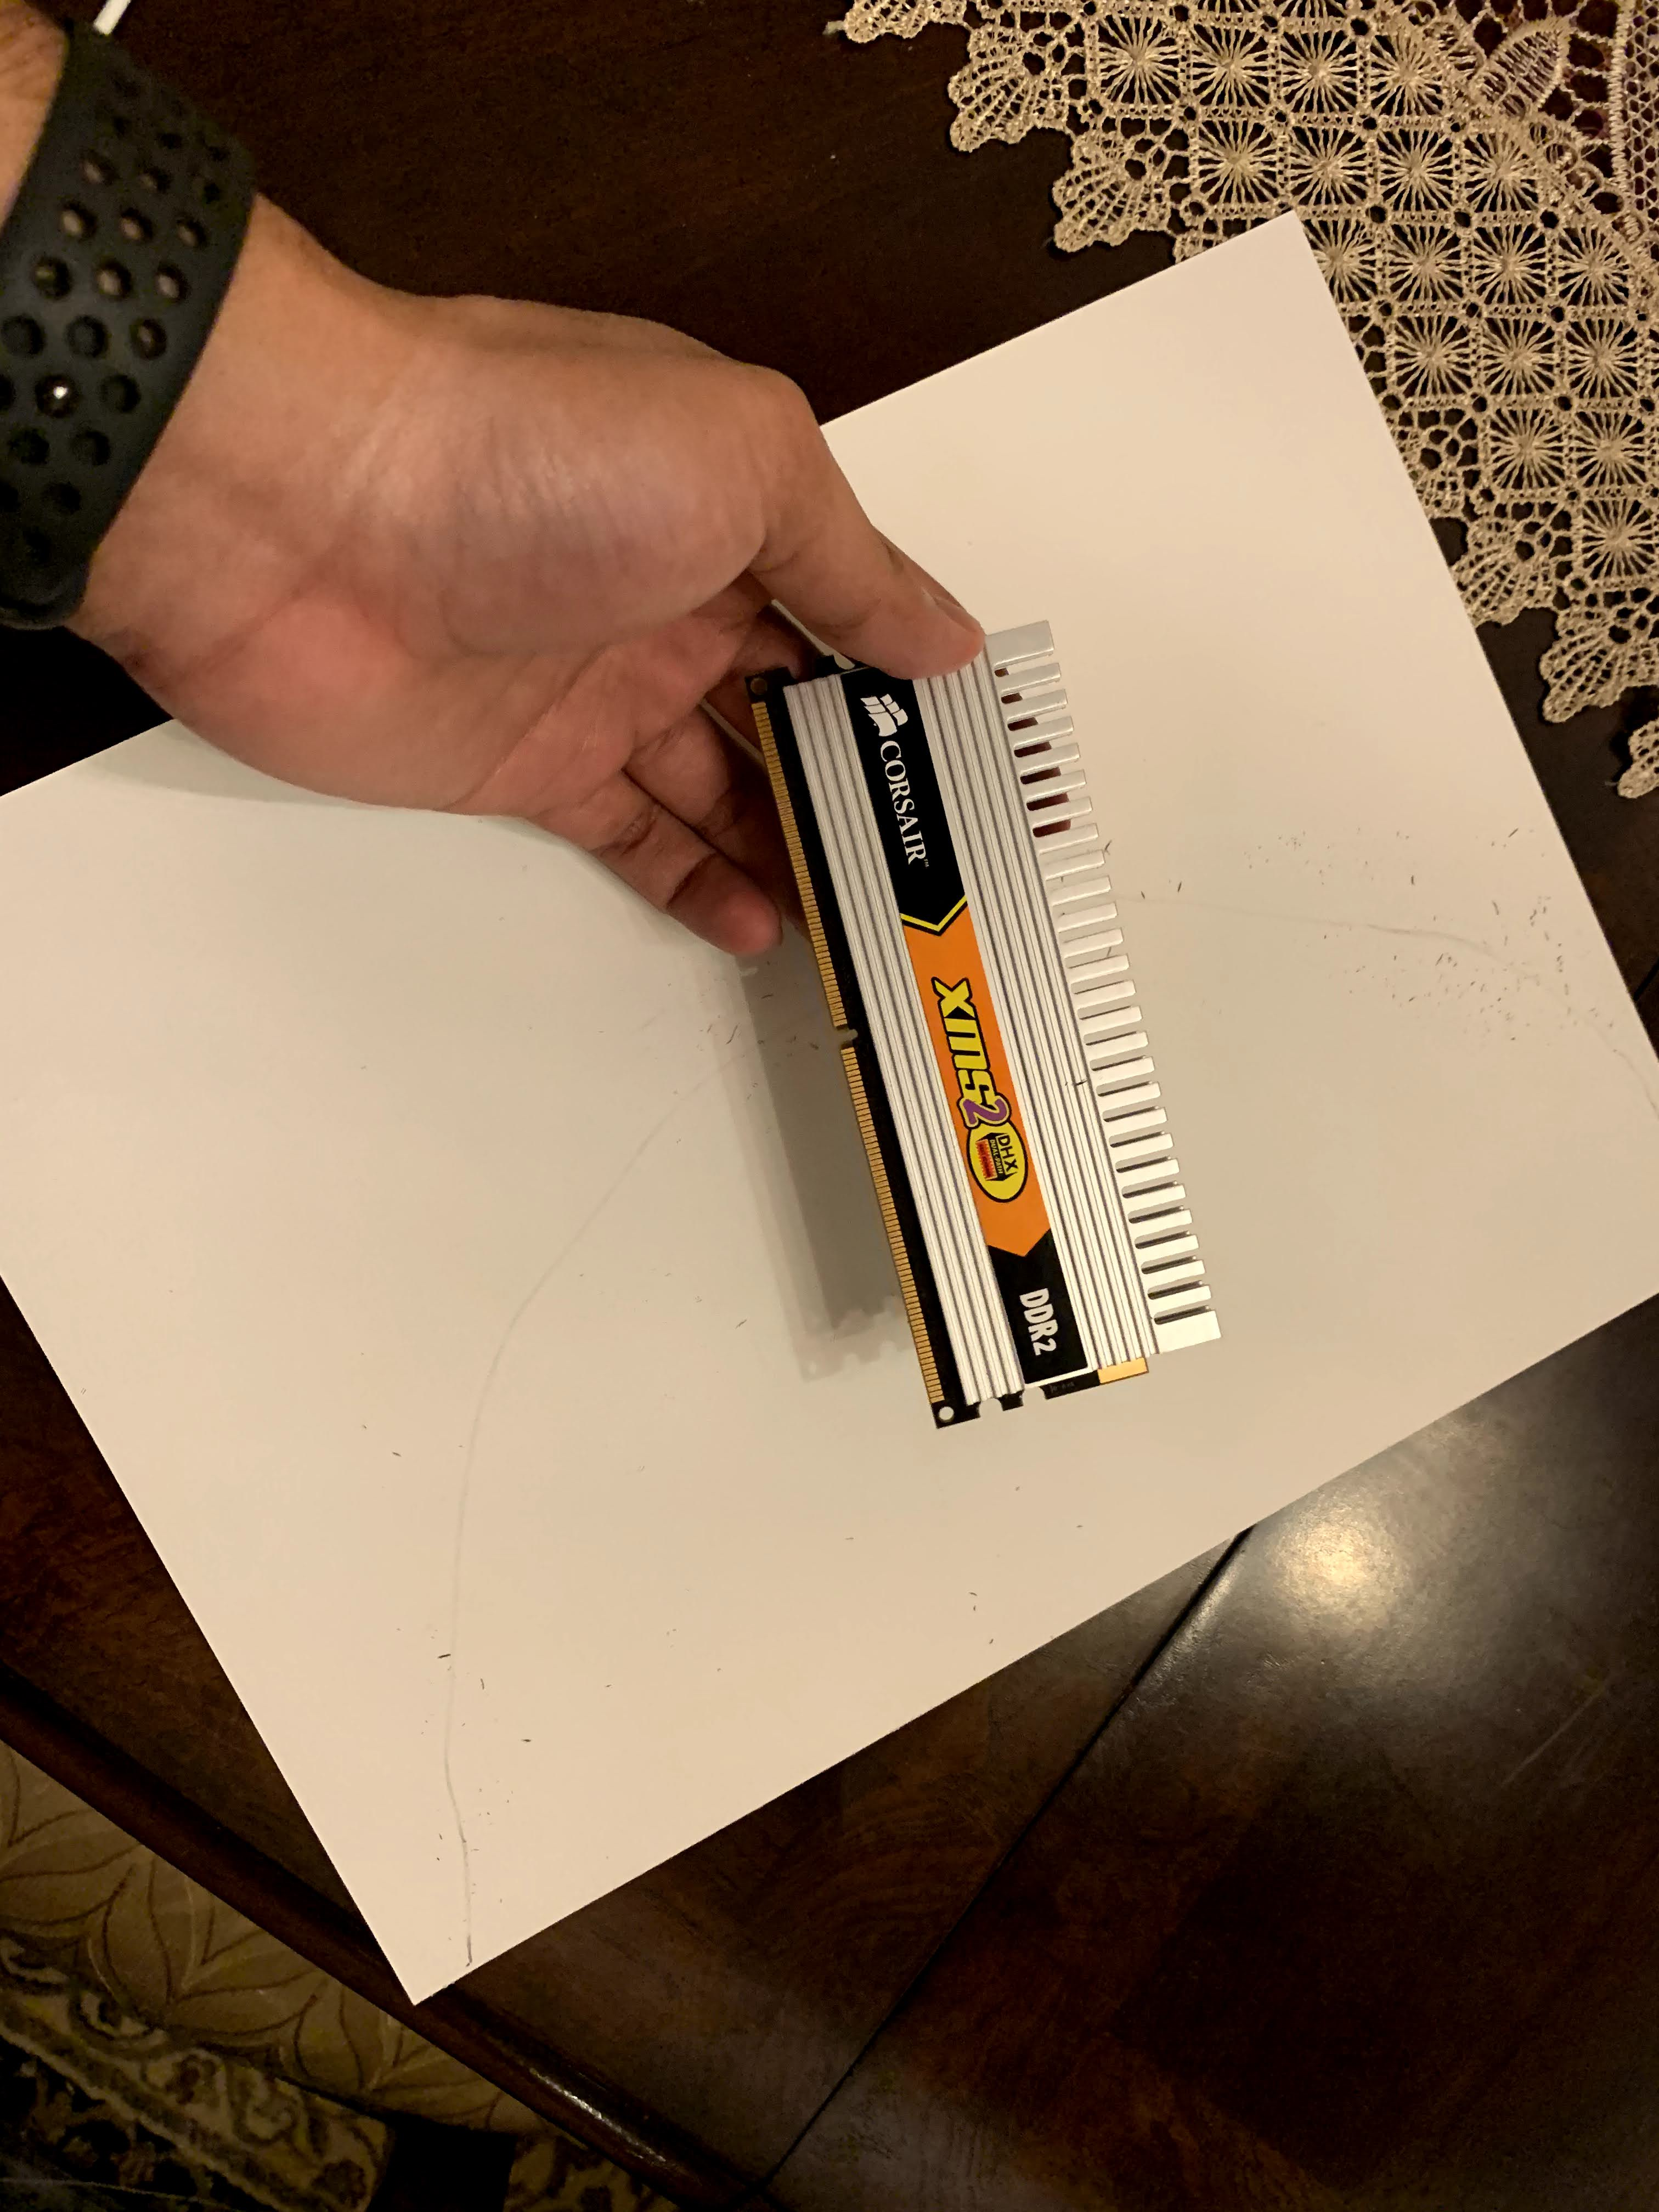Space-debris-medium: (714, 613, 1248, 1433)
